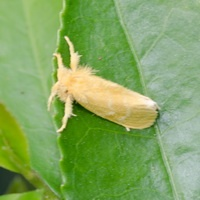insect: (48, 36, 158, 131)
